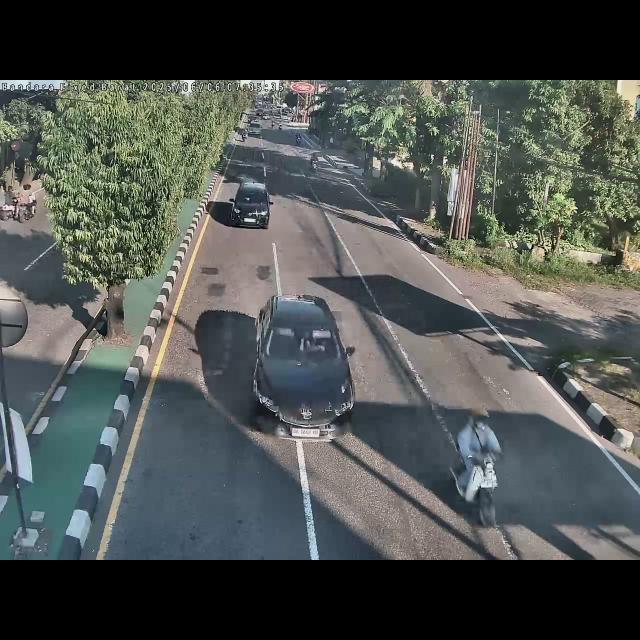Mobil: (246, 292, 358, 448), (224, 176, 276, 232)
Motor: (446, 402, 506, 532)
